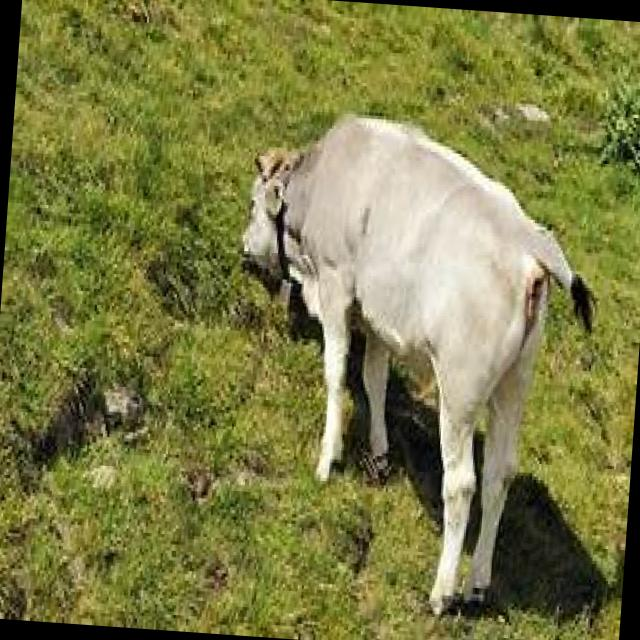cow: (149, 28, 622, 640)
